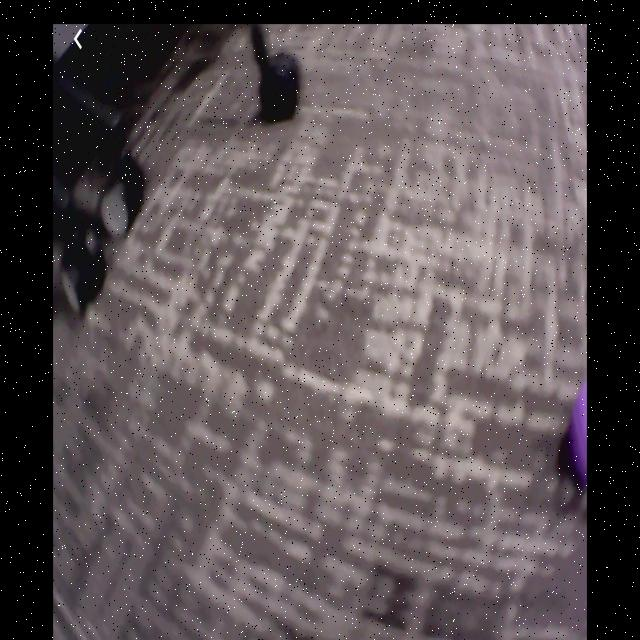ball: (557, 381, 588, 495)
